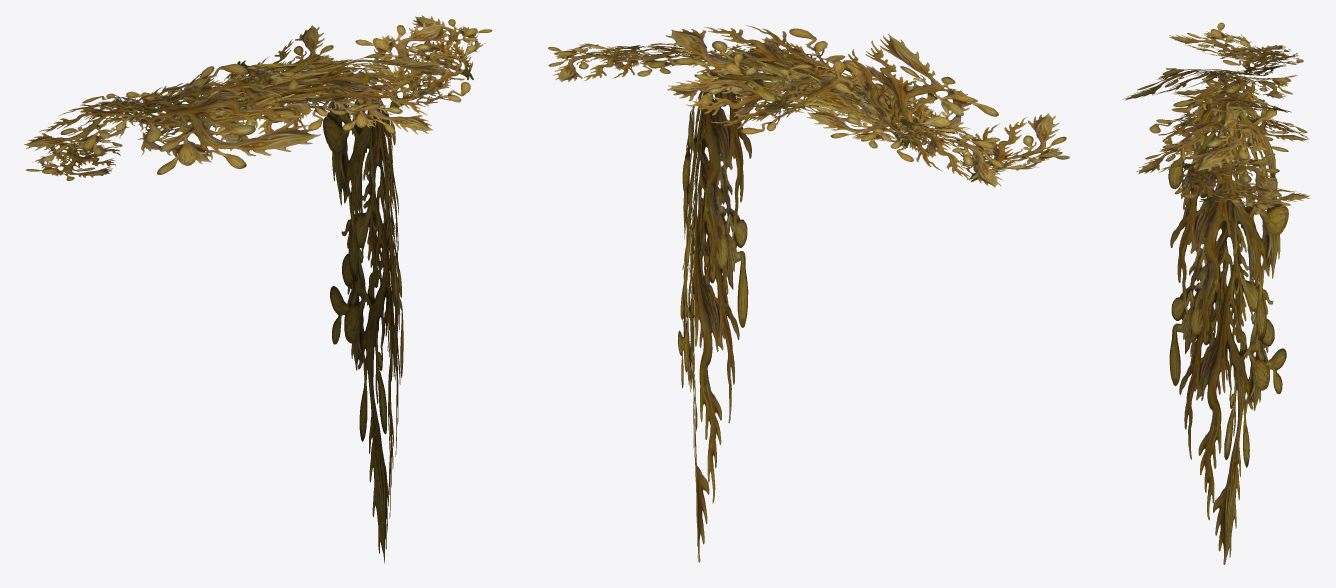
The picture shows the model from 3 angles, left to right: view 1: azimuth 30°, elevation 25°; view 2: azimuth 150°, elevation 25°; view 3: azimuth 270°, elevation 25°; orthographic projection. The views are drawn at different scales.
Size of the model in its own units: 8.76 by 8.89 by 3.65.
2 materials, 2 textured.
